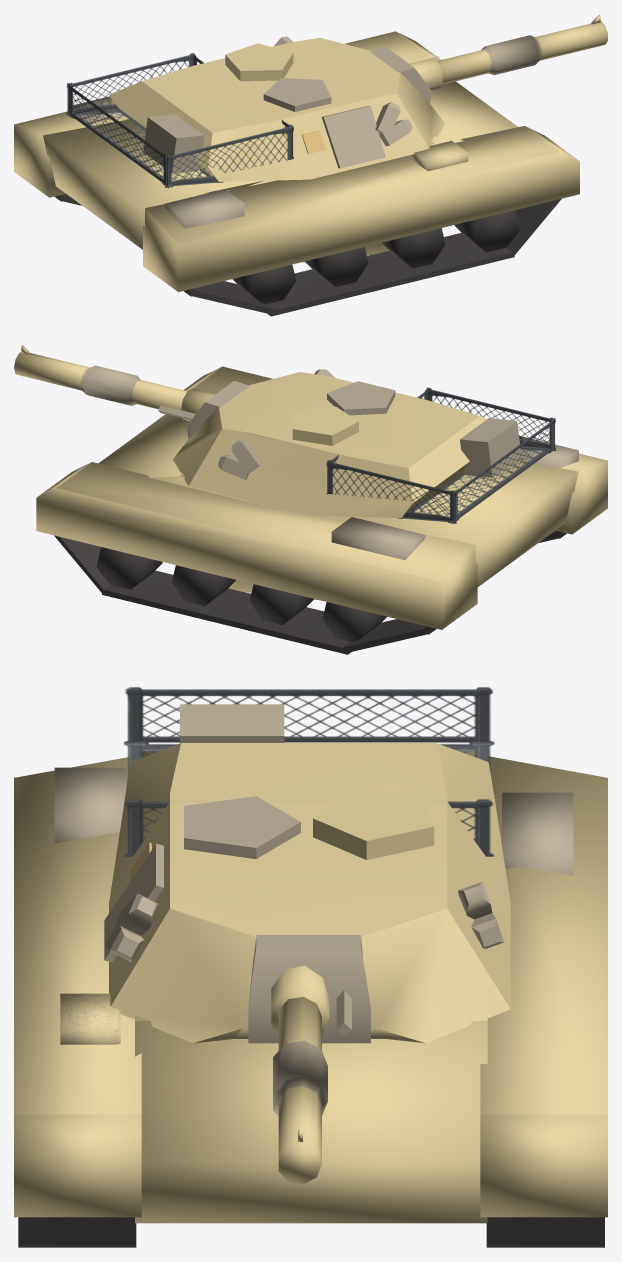
File: striker.glb
3 renders of one model, top to bottom at view 1: azimuth 30°, elevation 25°; view 2: azimuth 150°, elevation 25°; view 3: azimuth 270°, elevation 25°, orthographic. The views are drawn at different scales.
Parts seen in each view (by area): view 1: hull, turret.001, gun; view 2: hull, turret.001, gun; view 3: hull, turret.001, gun.
Boxes of the visible parts, bbox=[...] form: hull: bbox=[14, 31, 579, 316]; turret.001: bbox=[66, 36, 445, 188]; gun: bbox=[409, 14, 607, 91]; hull: bbox=[36, 366, 607, 654]; turret.001: bbox=[158, 369, 556, 524]; gun: bbox=[14, 345, 215, 421]; hull: bbox=[14, 751, 607, 1247]; turret.001: bbox=[104, 687, 510, 1043]; gun: bbox=[271, 965, 329, 1184].
Size of what is drawn, in the model's own units: 10.29 by 3.18 by 5.78.
5 materials, 1 textured.
